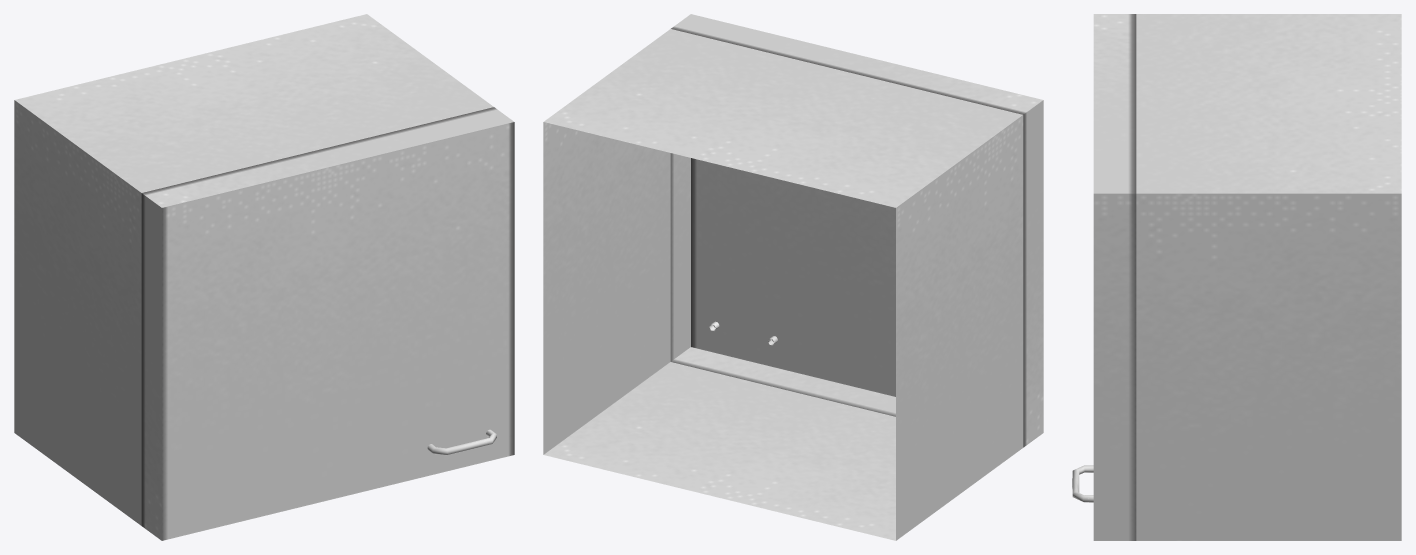
The model's file is Kitchen_Cabinet_Small_Left.fbx.
The picture shows the model from 3 angles, left to right: view 1: azimuth 30°, elevation 25°; view 2: azimuth 150°, elevation 25°; view 3: azimuth 270°, elevation 25°; orthographic projection. The views are drawn at different scales.
Visible parts, largest first — view 1: Cuisine_Comptoir_Gauche.019; view 2: Cuisine_Comptoir_Gauche.019; view 3: Cuisine_Comptoir_Gauche.019.
Boxes of the visible parts, left/top/right/bottom form: Cuisine_Comptoir_Gauche.019: left=14, top=14, right=514, bottom=540; Cuisine_Comptoir_Gauche.019: left=543, top=14, right=1043, bottom=540; Cuisine_Comptoir_Gauche.019: left=1072, top=14, right=1401, bottom=540.
Bounding box in the file's own units: 69.88 × 63.08 × 54.14.
